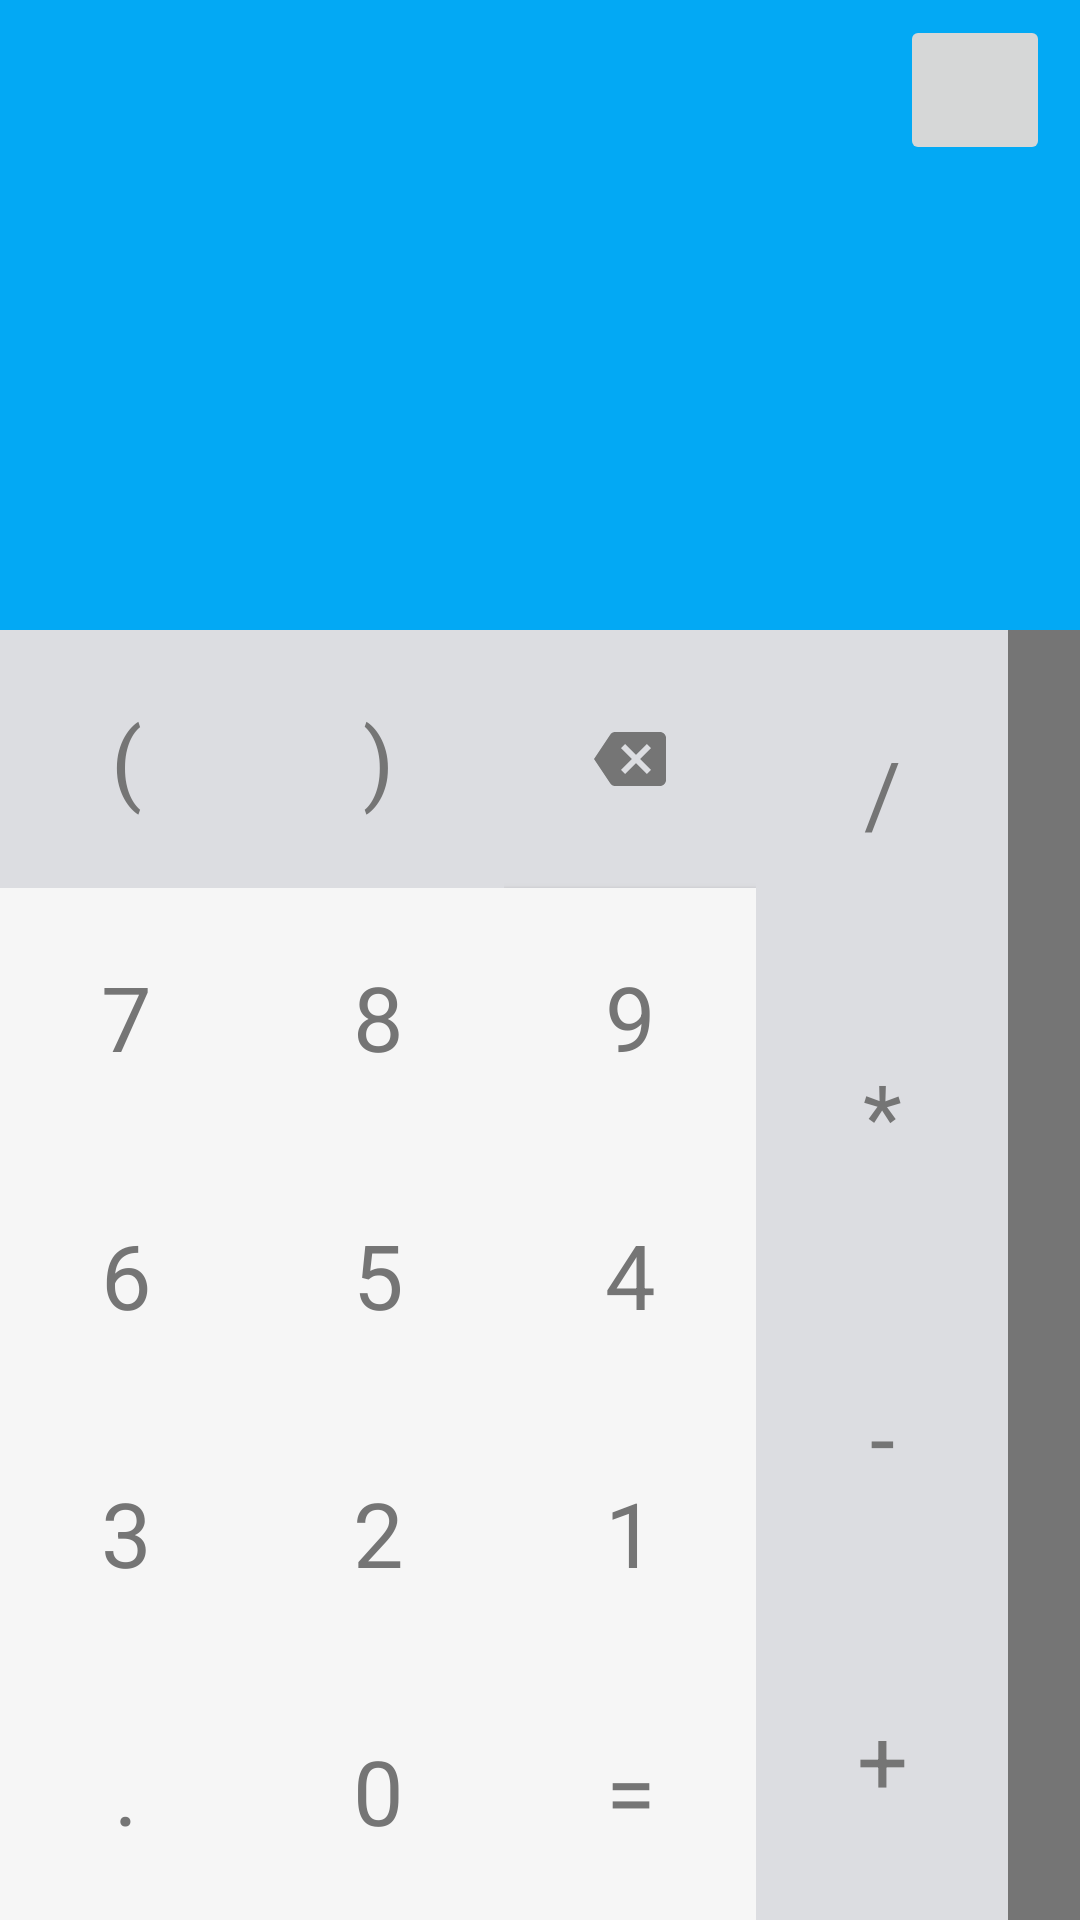

Icon bounding boxes for this 1080w x 1920h phone screenshot, format {"x1": x1, "y1": y1, "x2": x2, "y2": y2}:
backspace: {"x1": 594, "y1": 732, "x2": 666, "y2": 786}
